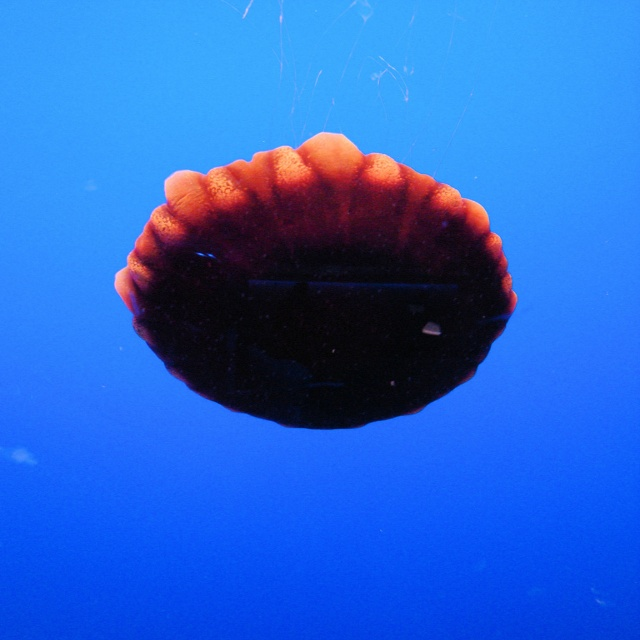Jellyfish: (107, 123, 529, 423)
